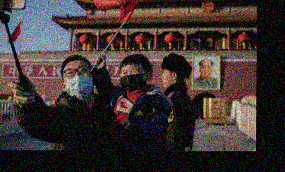with_mask: (62, 63, 93, 99), (119, 67, 144, 90)
without_mask: (160, 68, 171, 88)
